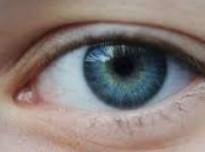eye: (81, 44, 169, 110)
